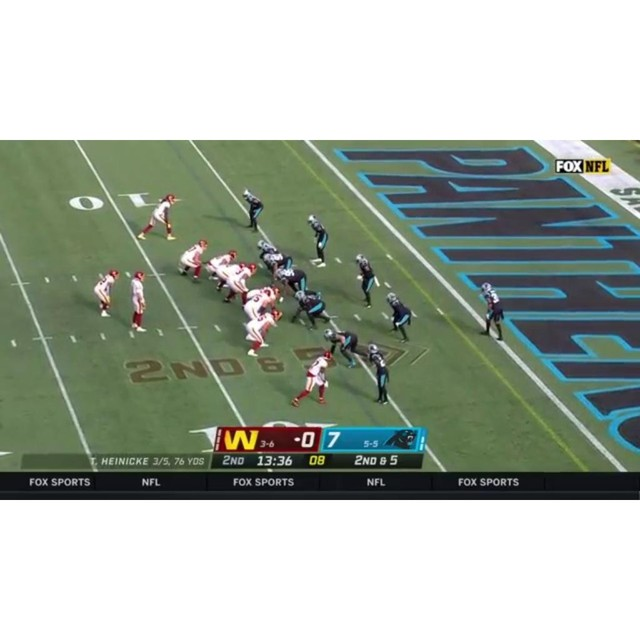american-football-player: (291, 349, 334, 407), (136, 193, 178, 240), (244, 309, 283, 357), (292, 291, 332, 331), (478, 282, 504, 341), (223, 263, 257, 306), (385, 293, 414, 343), (323, 329, 359, 368), (368, 343, 390, 405), (243, 287, 281, 322), (355, 254, 379, 308), (178, 238, 207, 282), (93, 269, 119, 318), (207, 249, 237, 289), (129, 270, 148, 332), (307, 215, 329, 268), (275, 267, 310, 299), (259, 250, 293, 279), (243, 188, 264, 231)
